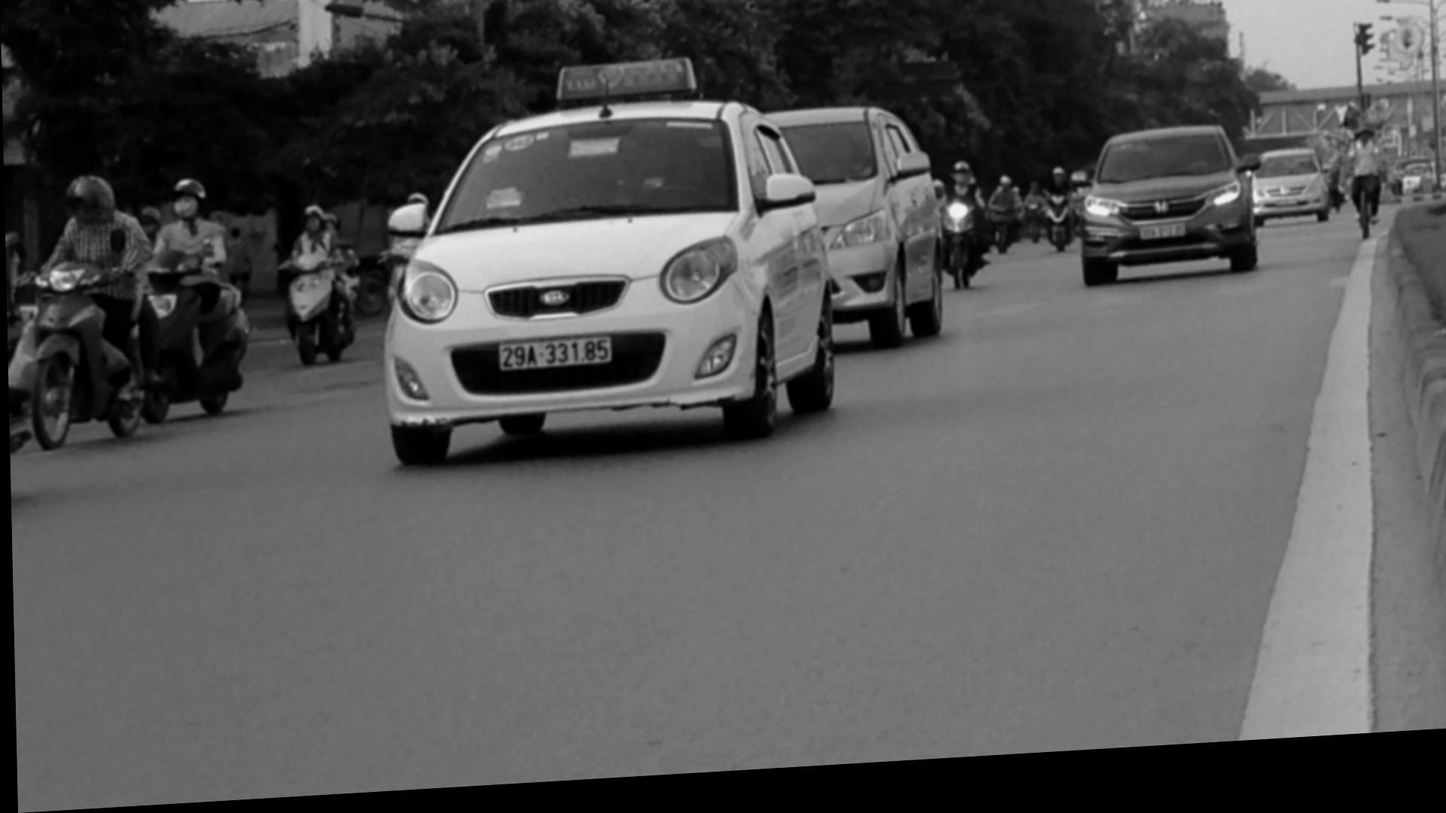License_Plate: (502, 339, 610, 368)
